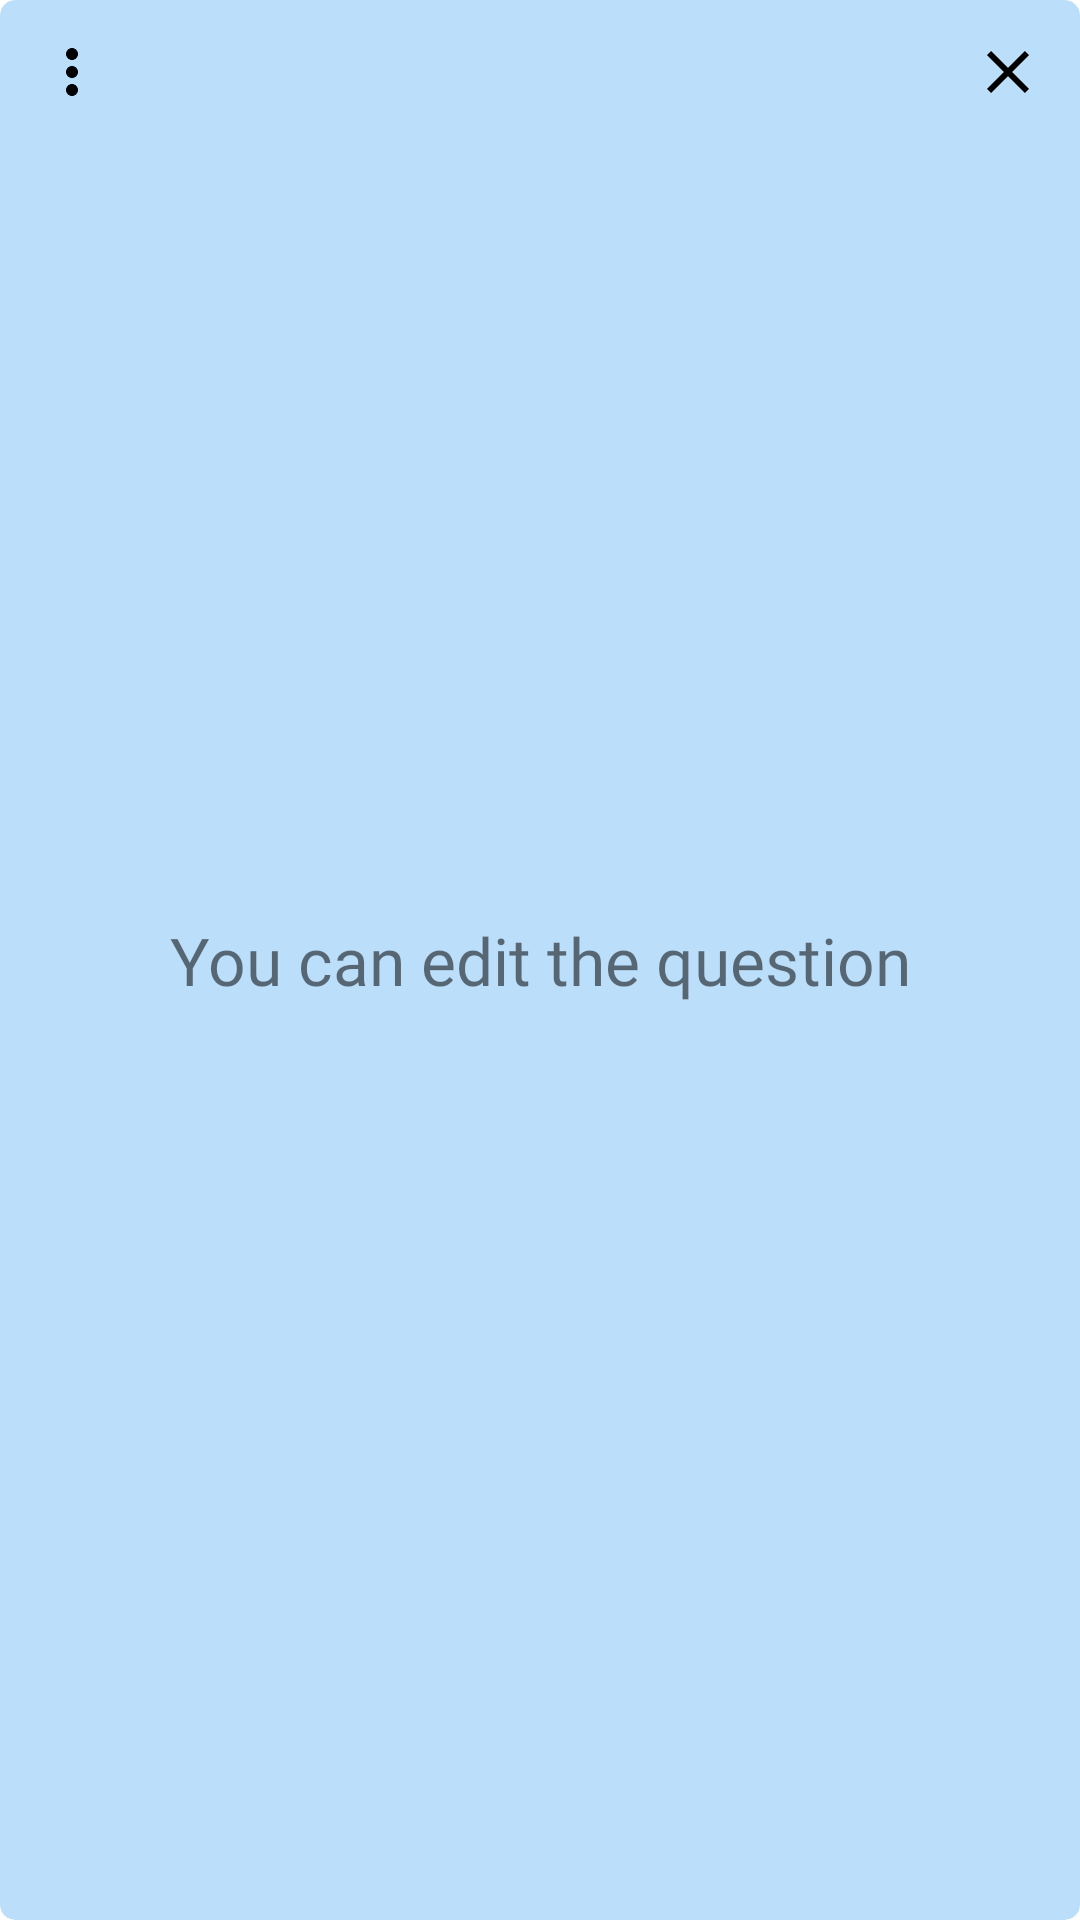

Locate icon controls on the screen. Image size 1080 × 1920, boxes as (x1, y1, x2, y2).
cancel: (987, 51, 1029, 93)
more vert: (66, 48, 78, 96)
